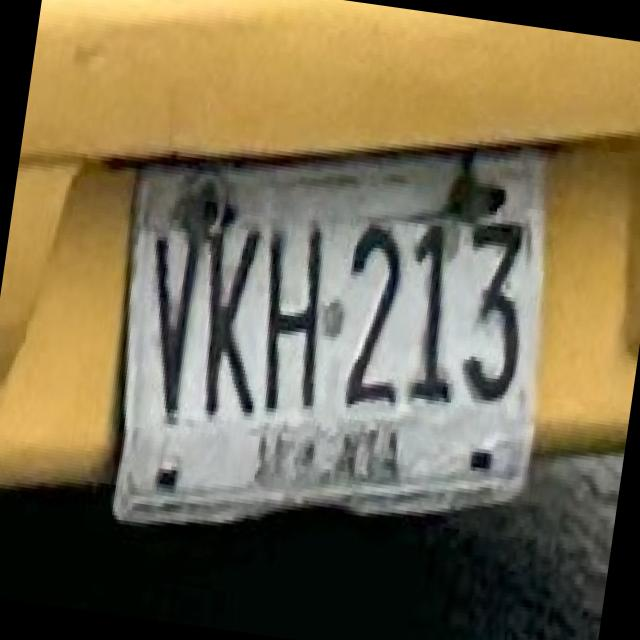number plate: (113, 145, 541, 516)
